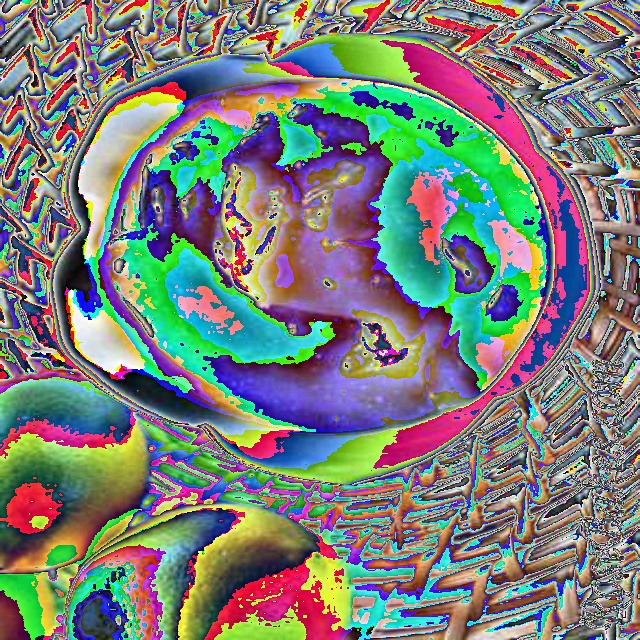background: (93, 77, 550, 435), (0, 268, 351, 639)
